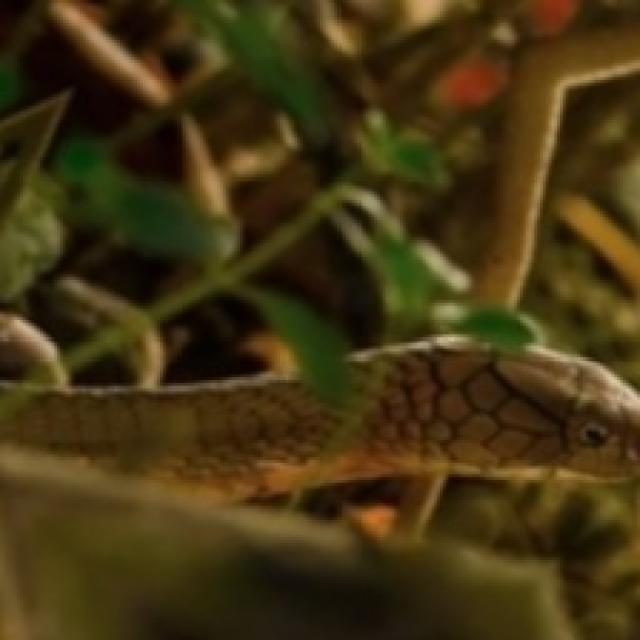king cobra: (0, 337, 637, 551)
